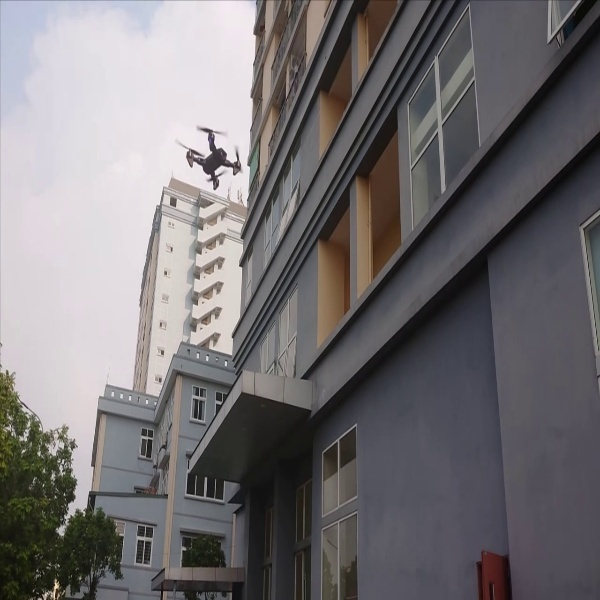drone: (169, 118, 247, 202)
